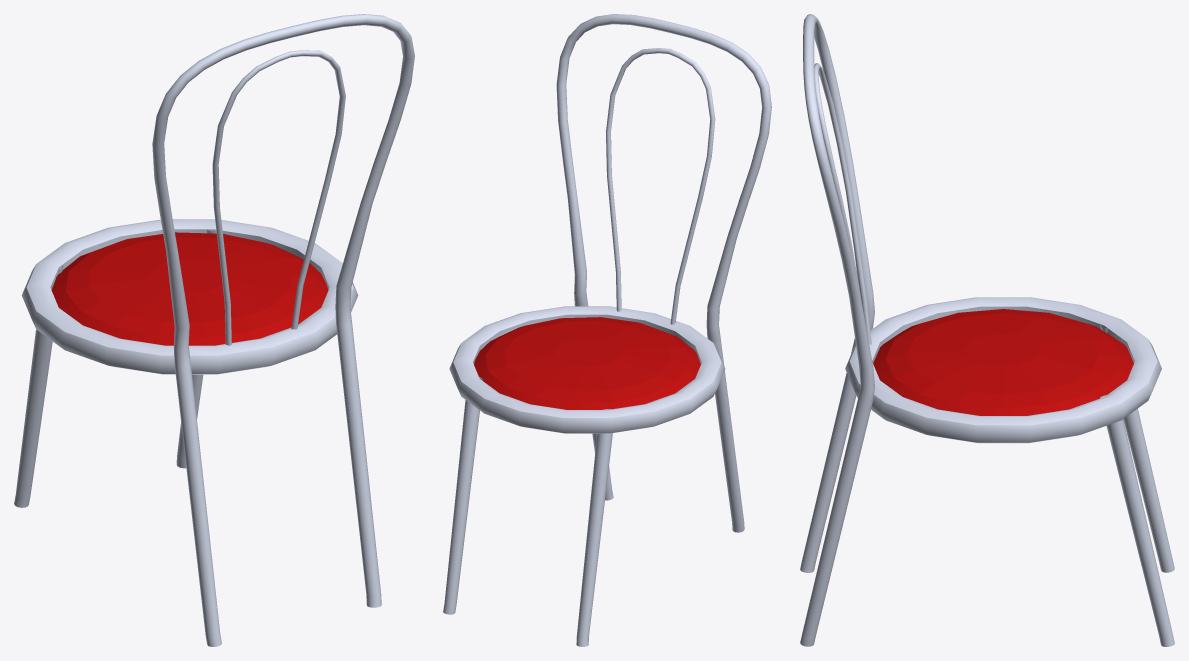
Rendered from SM_chair_light_02.fbx.
3 views of the same model, side by side, from view 1: azimuth 30°, elevation 25°; view 2: azimuth 150°, elevation 25°; view 3: azimuth 270°, elevation 25° (orthographic). The views are drawn at different scales.
Visible parts, largest first — view 1: chair_light_02; view 2: chair_light_02; view 3: chair_light_02.
Part boxes in pixels (box(x1,y1,x2,y2)): chair_light_02: box(14, 14, 414, 646); chair_light_02: box(443, 14, 771, 646); chair_light_02: box(800, 14, 1174, 646).
Bounding box in the file's own units: 55.64 × 111 × 66.82.
